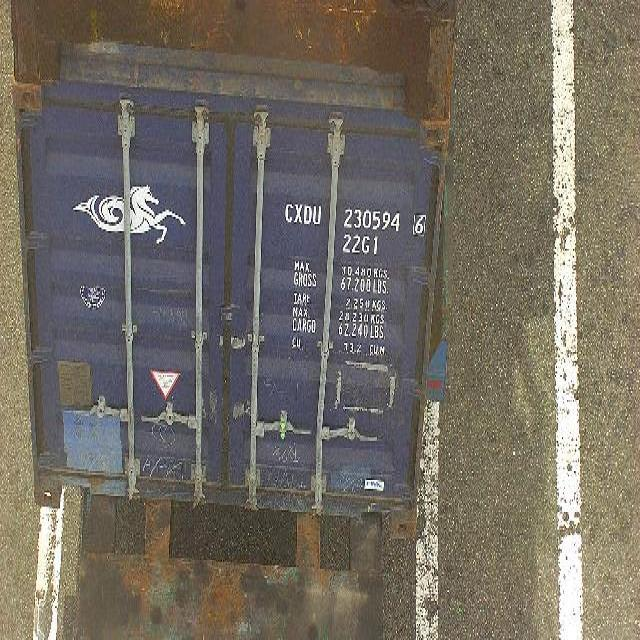ISO: (343, 234, 380, 254)
container_number: (279, 196, 429, 236)
